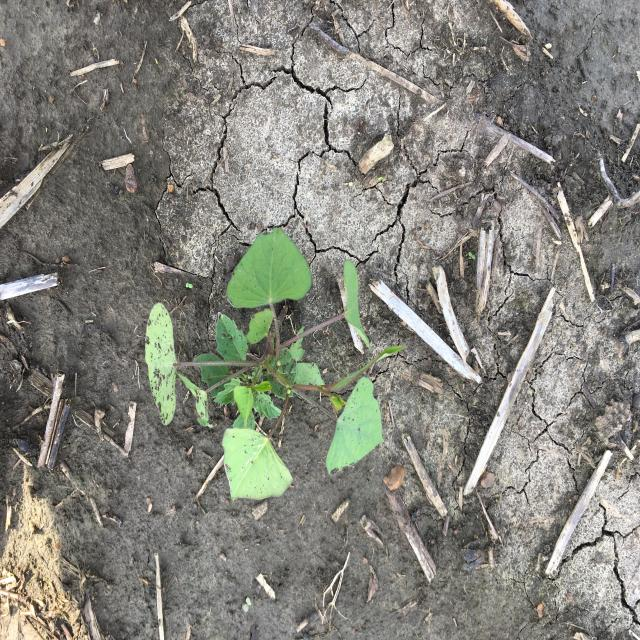MorningGlory: (144, 224, 405, 504)
